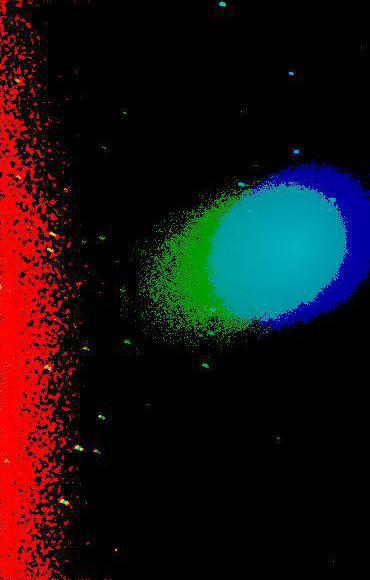star: (243, 20, 273, 50)
